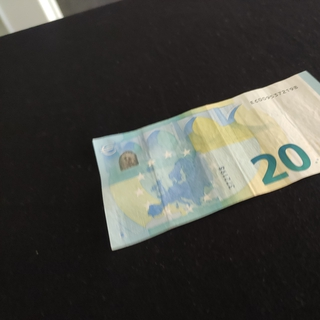20EUROBack: (92, 69, 320, 252)
